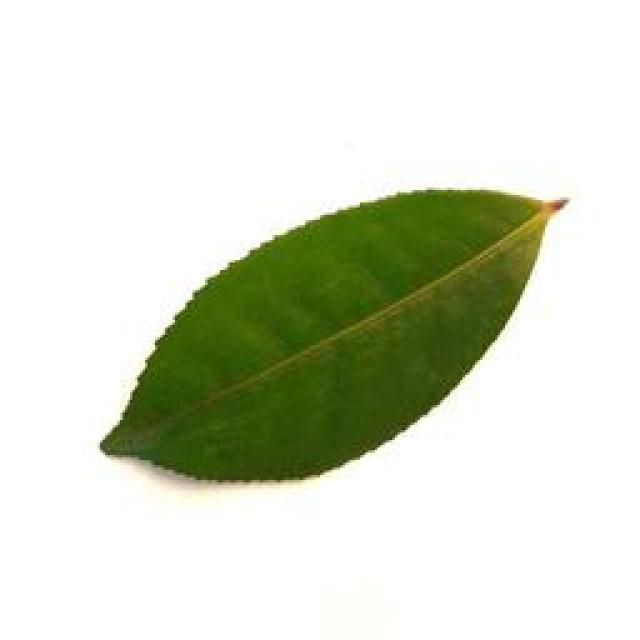Healthy: (87, 189, 559, 485)
